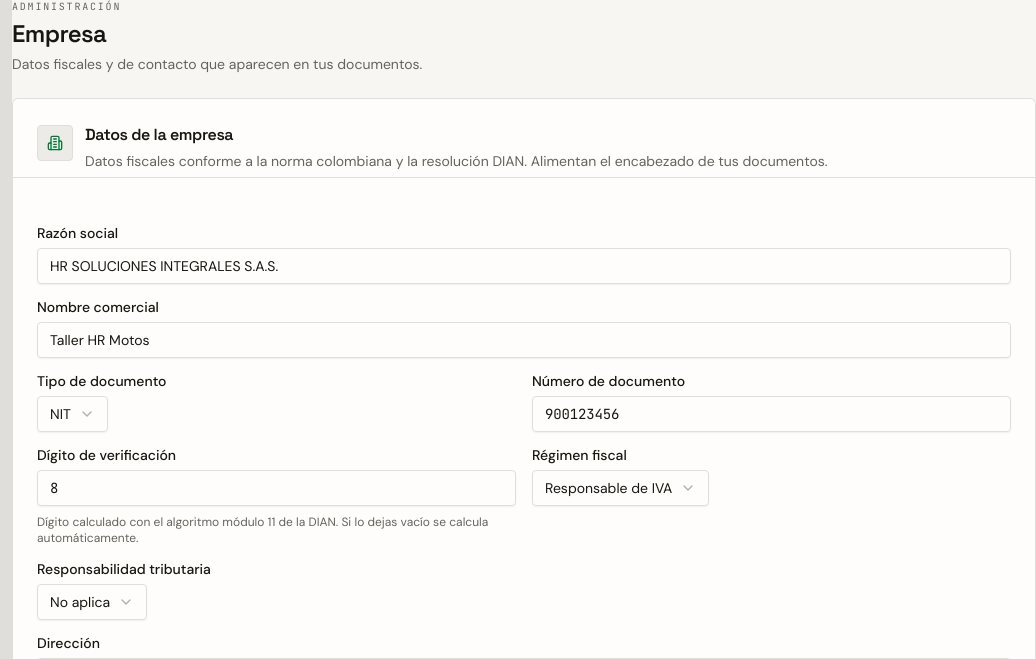
Test: CompanyPage › blocks saving a NIT whose check digit does not match
Replace the text in the field with test id "company.check_digit_input" with "3". click: (276, 488)
box: [37, 470, 516, 506]
(page scrolled)
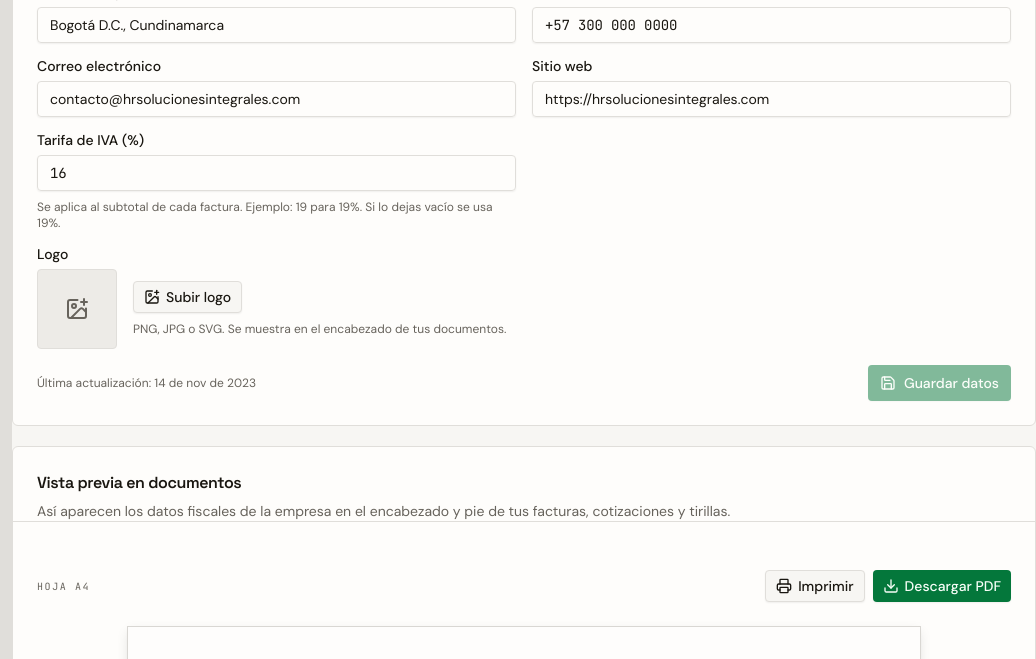
Expected: the button with test id "company.save_button" is disabled, [868, 365, 1011, 401]
